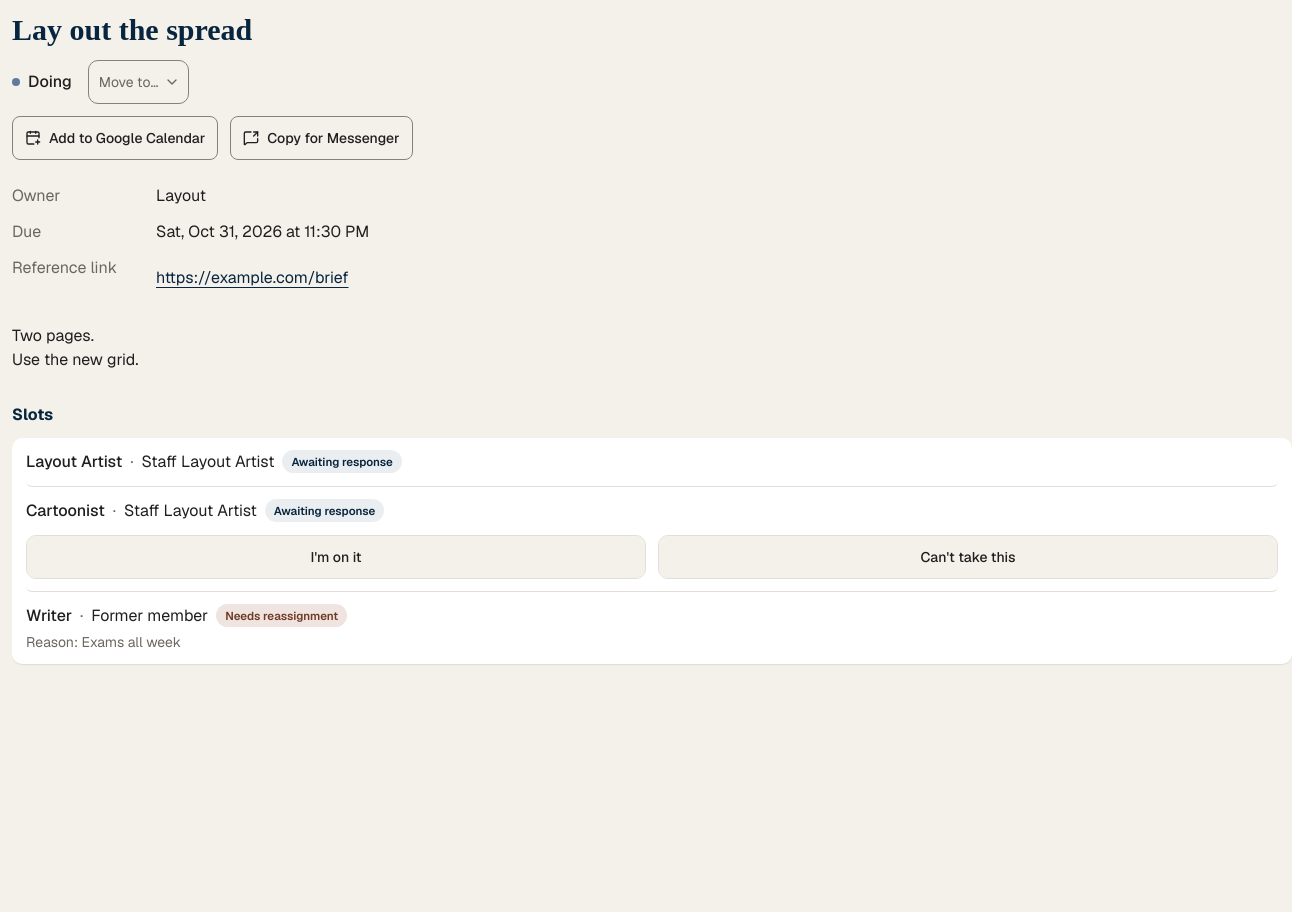
it: TaskDetailView › lists exactly the allowed moves
Click the dropdown labelled "Move to…" at (139, 82), box [88, 60, 189, 104]
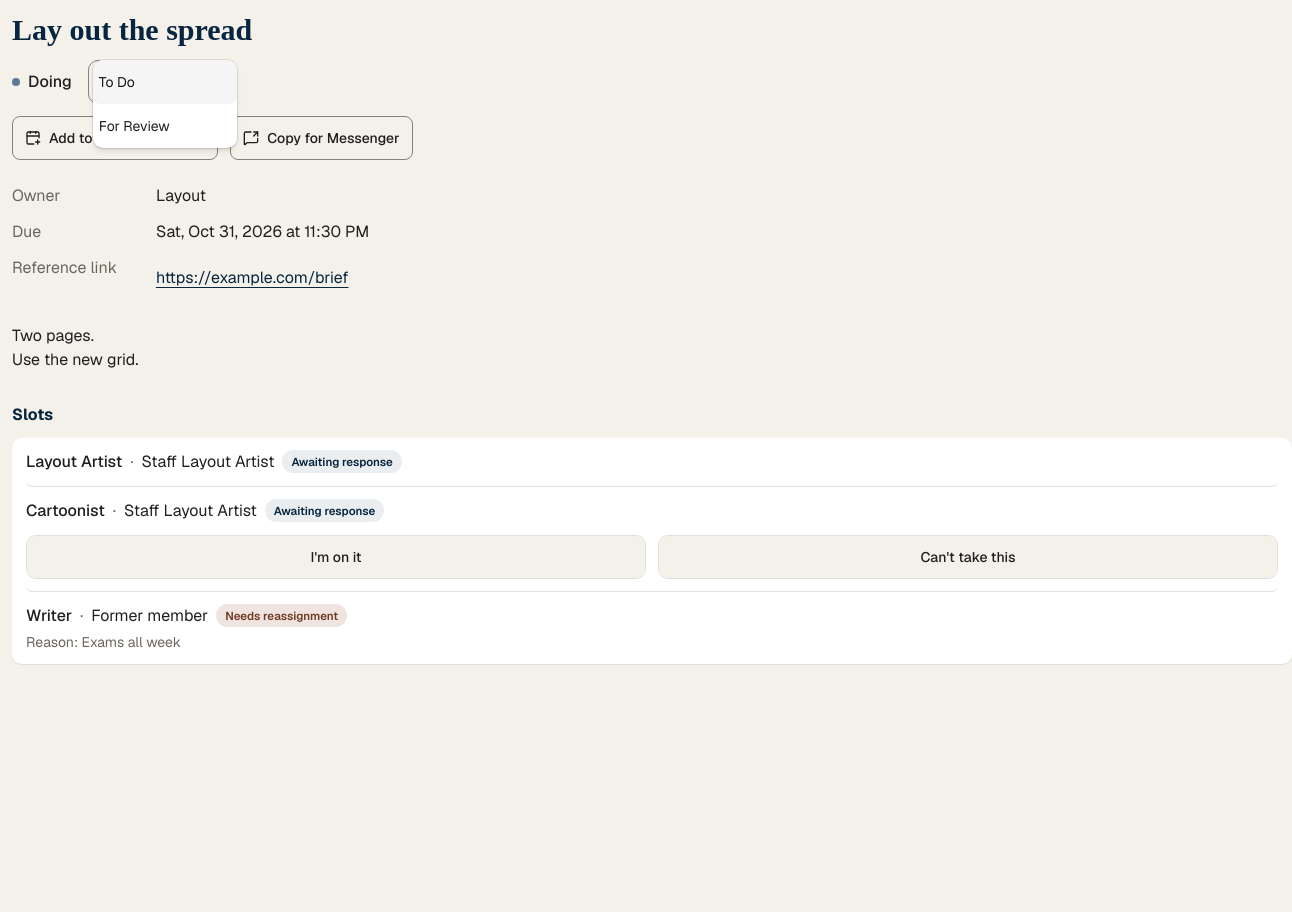
Result: the options read "To Do", "For Review", in this order at [93, 60, 237, 104]; [99, 117, 170, 135]
